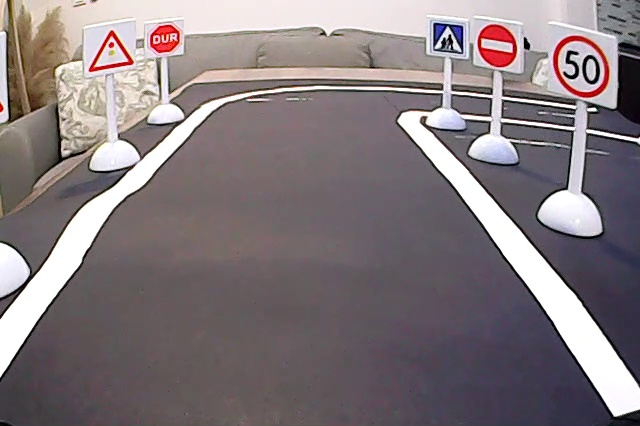do not enter: (474, 20, 521, 70)
red light: (83, 24, 137, 73)
school crossing: (427, 18, 467, 58)
speed limit 50: (549, 31, 611, 102)
stop sign: (144, 19, 185, 57)
